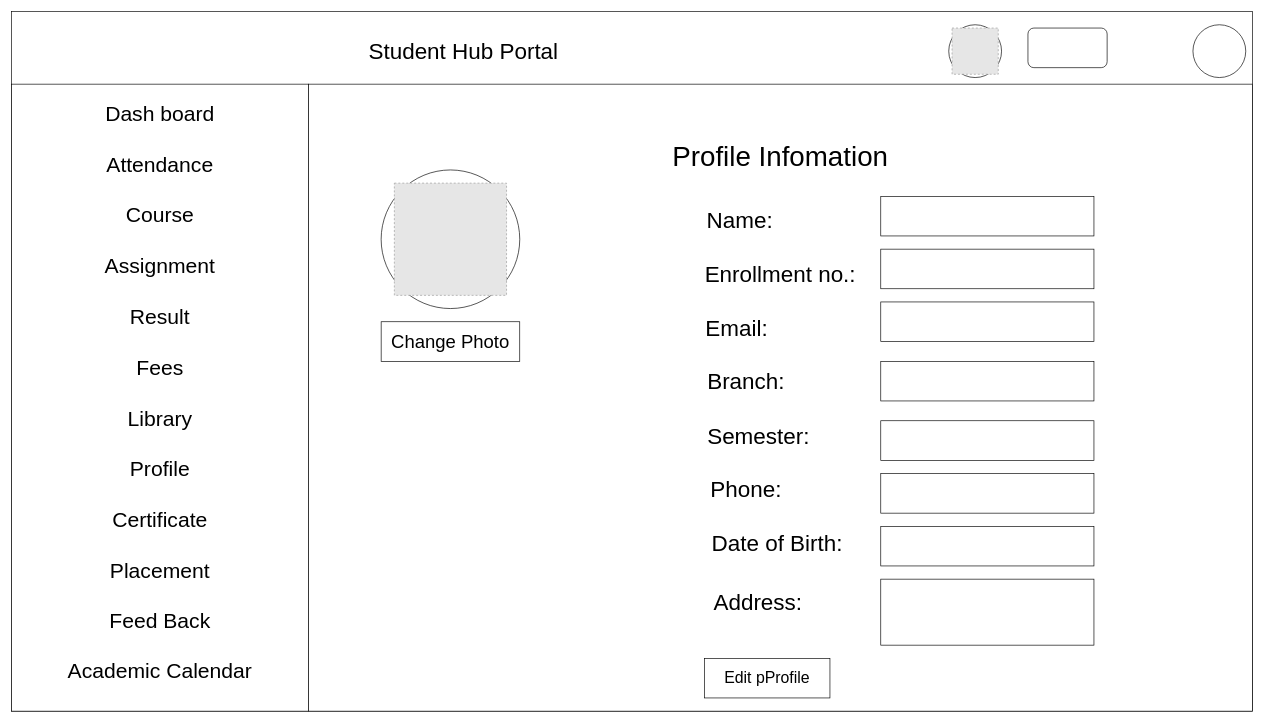
Image size: 1264x723. Some labels were removed from this diagram. Grey dashed boxes stand in for pictures. Here are the shapes that lost their labels. From the top down, the centre of each, then its label:
At (x=1067, y=47): "Name".
At (x=1219, y=51): "Setting".
